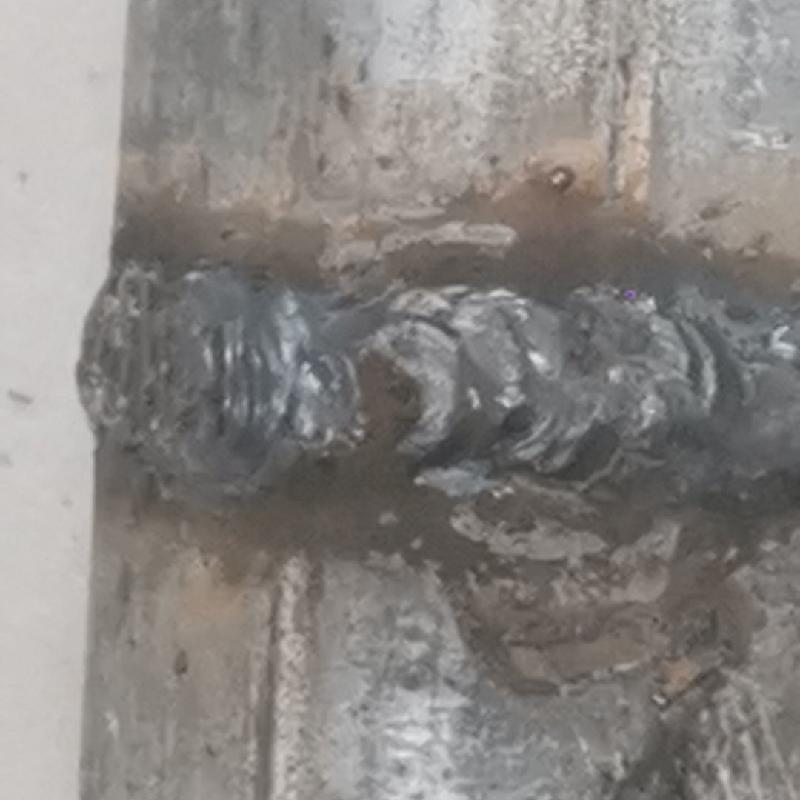good: (74, 239, 799, 492)
